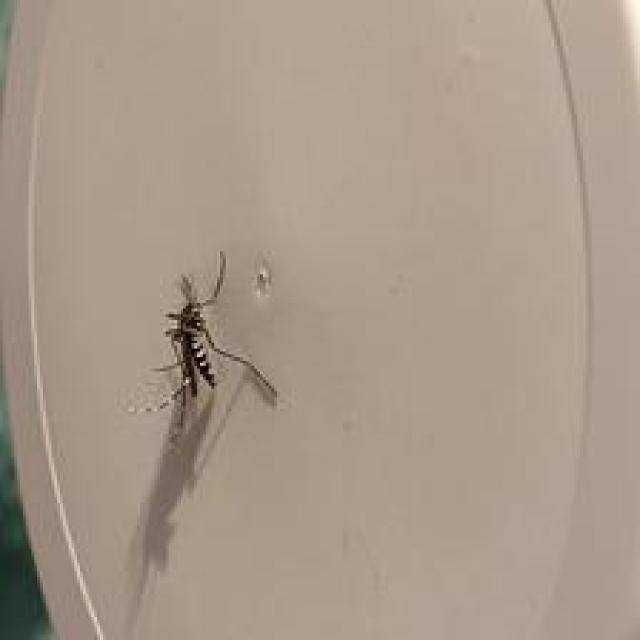Aedes albopictus: (124, 248, 279, 428)
